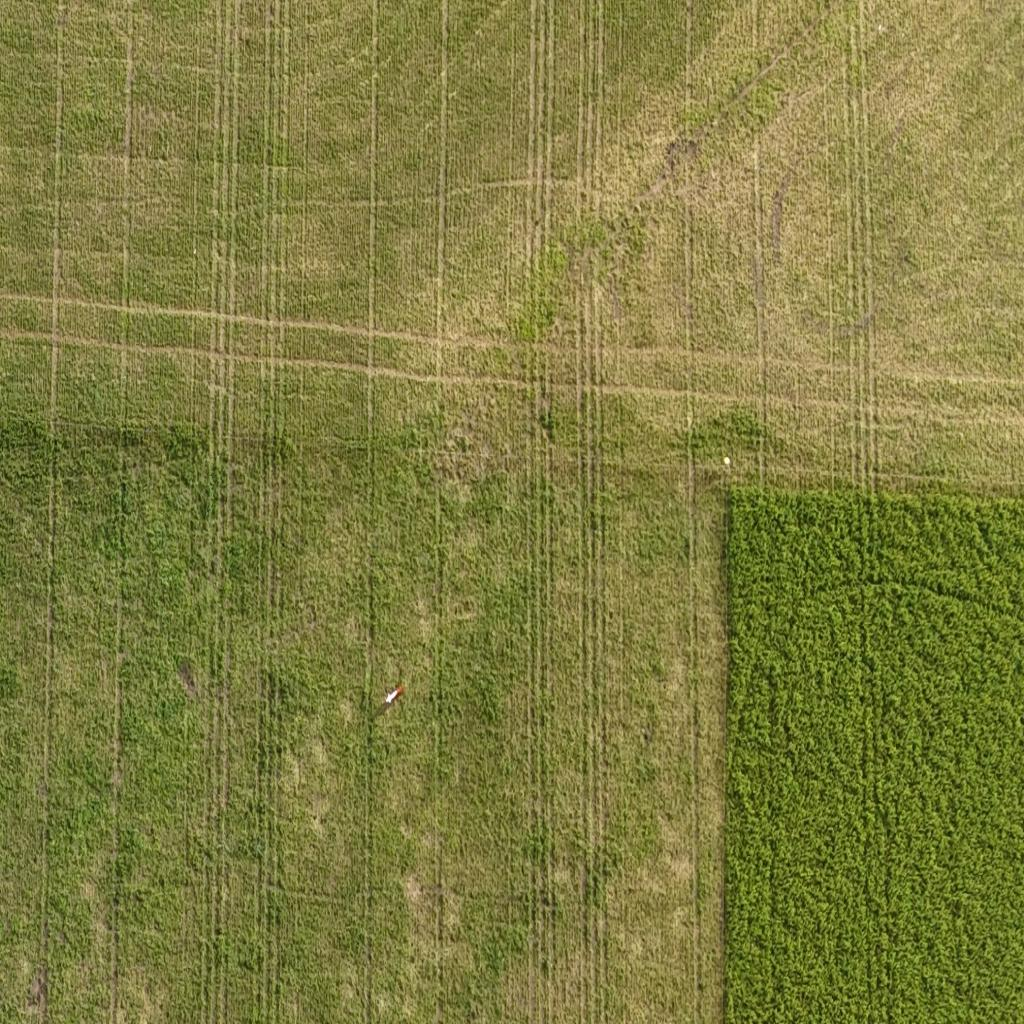cow: (381, 678, 407, 711)
